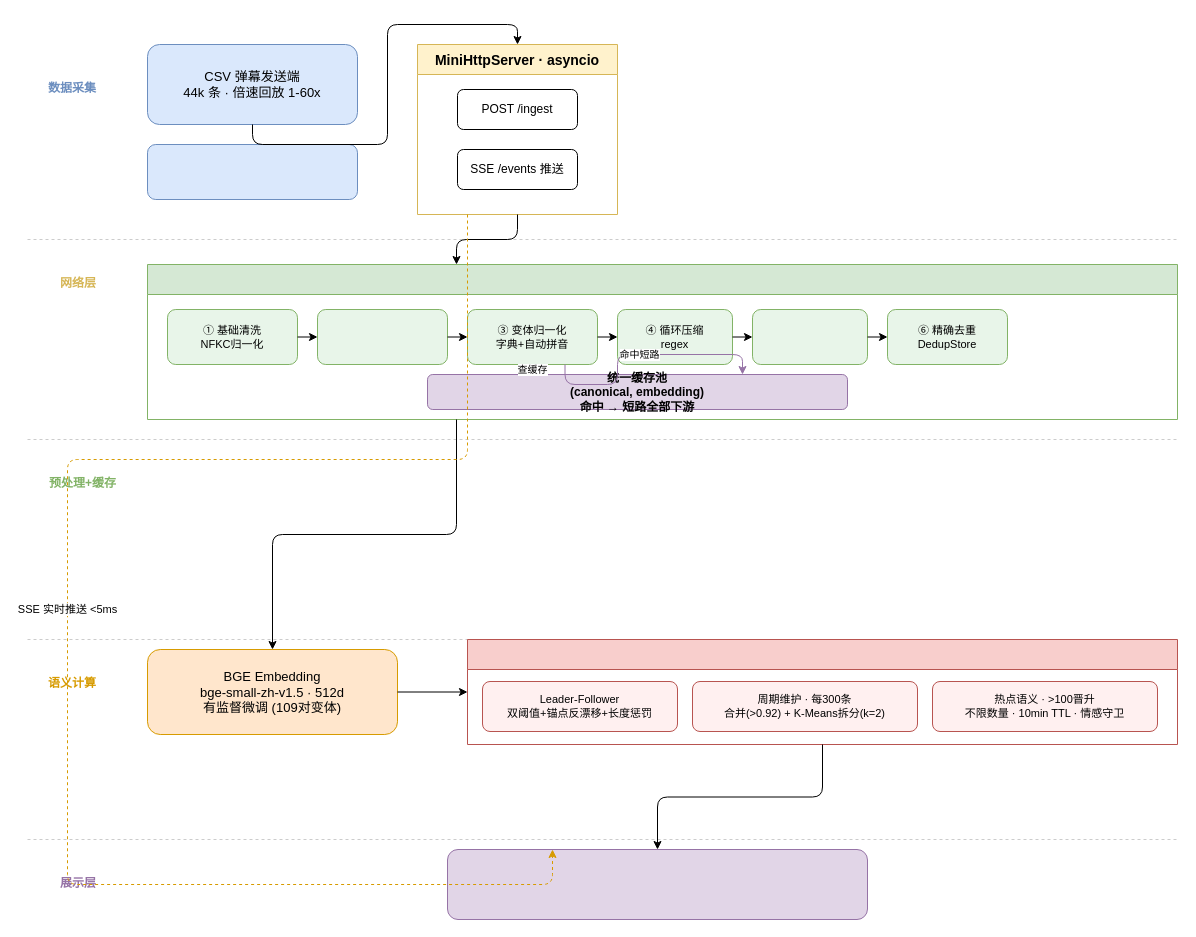
This 1196x937 diagram has some shape labels left out. Here are the shapes that lost their labels. From the top down, the box of each, then its label:
(146, 144, 358, 200): 手动输入 Web 发送框
(316, 308, 448, 364): ② jieba分词+别名 variants联动
(146, 264, 1178, 420): CanonicalRegistry · 6步预处理管线
(752, 308, 868, 364): ⑤ SimHash 辅助模糊
(466, 638, 1178, 744): 在线聚类引擎
(446, 848, 868, 920): Web 实时监控面板 SSE 3列实时 · 阈值调节 · 热点栏 · 缓存/耗时统计
